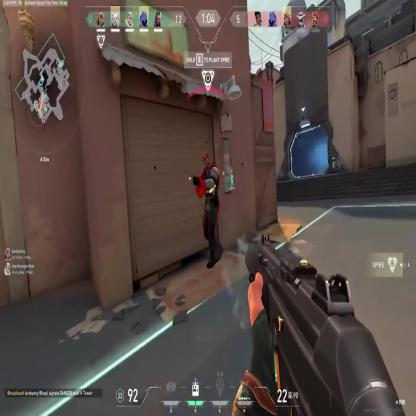enemy: (198, 151, 224, 269)
enemy_head: (202, 153, 210, 171)
